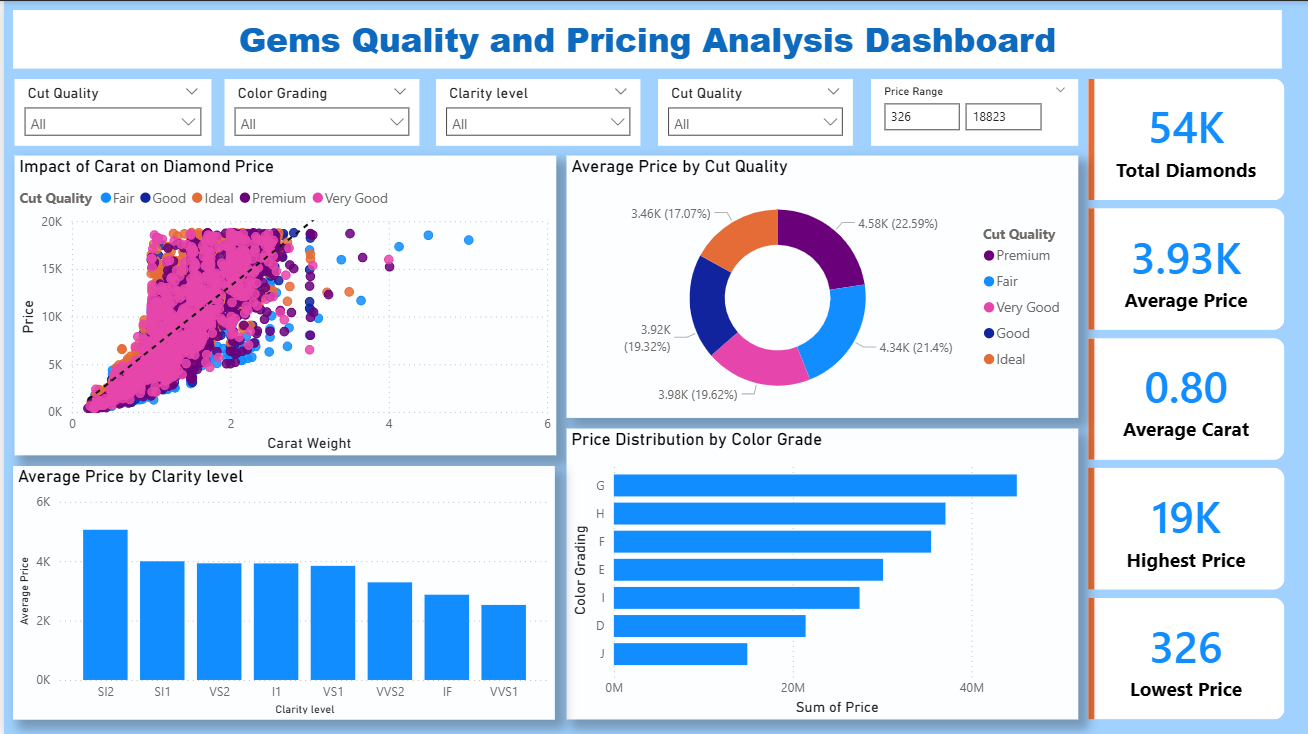

The page's visual inventory and layout, read from the dashboard file:
{"tool":"powerbi","page":{"name":"Page 1","canvas":[1280,720],"ordinal":0},"visuals":[{"type":"cardVisual","fields":{"Data":["diamonds.Total Diamonds","diamonds.Average Price","diamonds.Average Carat","diamonds.Highest Price","diamonds.Lowest Price"]},"box":[1043.3,58.3,226.7,661.7],"z":0},{"type":"scatterChart","title":"Impact of Carat on Diamond Price","fields":{"X":["diamonds.Carat Weight"],"Y":["diamonds.Price"],"Series":["diamonds.Cut Quality"]},"box":[10.3,151.1,529.7,293.5],"z":1000},{"type":"donutChart","fields":{"Category":["diamonds.Cut Quality"],"Y":["diamonds.Average Price"]},"box":[550.3,151.1,500.4,256.8],"z":2000},{"type":"barChart","title":"Price Distribution by Color Grade","fields":{"Category":["diamonds.Color Grading"],"Y":["Sum(diamonds.Price)"]},"box":[550.3,418.2,500.4,284.7],"z":3000},{"type":"clusteredColumnChart","fields":{"Category":["diamonds.Clarity level"],"Y":["diamonds.Average Price"]},"box":[8.8,454.9,529.7,248],"z":4000},{"type":"slicer","fields":{"Values":["diamonds.Cut Quality"]},"box":[10.4,76.1,192.4,65.6],"z":5000},{"type":"slicer","fields":{"Values":["diamonds.Color Grading"]},"box":[216.3,76.1,190.9,65.6],"z":6000},{"type":"slicer","fields":{"Values":["diamonds.Clarity level"]},"box":[422.2,76.1,199.9,65.6],"z":7000},{"type":"slicer","fields":{"Values":["diamonds.Cut Quality"]},"box":[640,76.1,190.9,65.6],"z":8000},{"type":"slicer","fields":{"Values":["diamonds.Price"]},"box":[848.8,76.1,202.9,65.6],"z":9000},{"type":"textbox","box":[8.8,8.8,1241.4,57.2],"z":10000}]}

Visuals, with their boxes in screenshot pixels (x1, y1, x2, y2), scaled from the page's 1280x720 canvas onto the 1308x734 screenshot:
cardVisual - diamonds.Total Diamonds x diamonds.Average Price: 1066:59:1298:733
"Impact of Carat on Diamond Price" scatterChart: 11:154:552:453
donutChart - diamonds.Cut Quality x diamonds.Average Price: 562:154:1074:416
"Price Distribution by Color Grade" barChart: 562:426:1074:717
clusteredColumnChart - diamonds.Clarity level x diamonds.Average Price: 9:464:550:717
slicer - diamonds.Cut Quality: 11:78:207:144
slicer - diamonds.Color Grading: 221:78:416:144
slicer - diamonds.Clarity level: 431:78:636:144
slicer - diamonds.Cut Quality: 654:78:849:144
slicer - diamonds.Price: 867:78:1075:144
textbox: 9:9:1278:67
